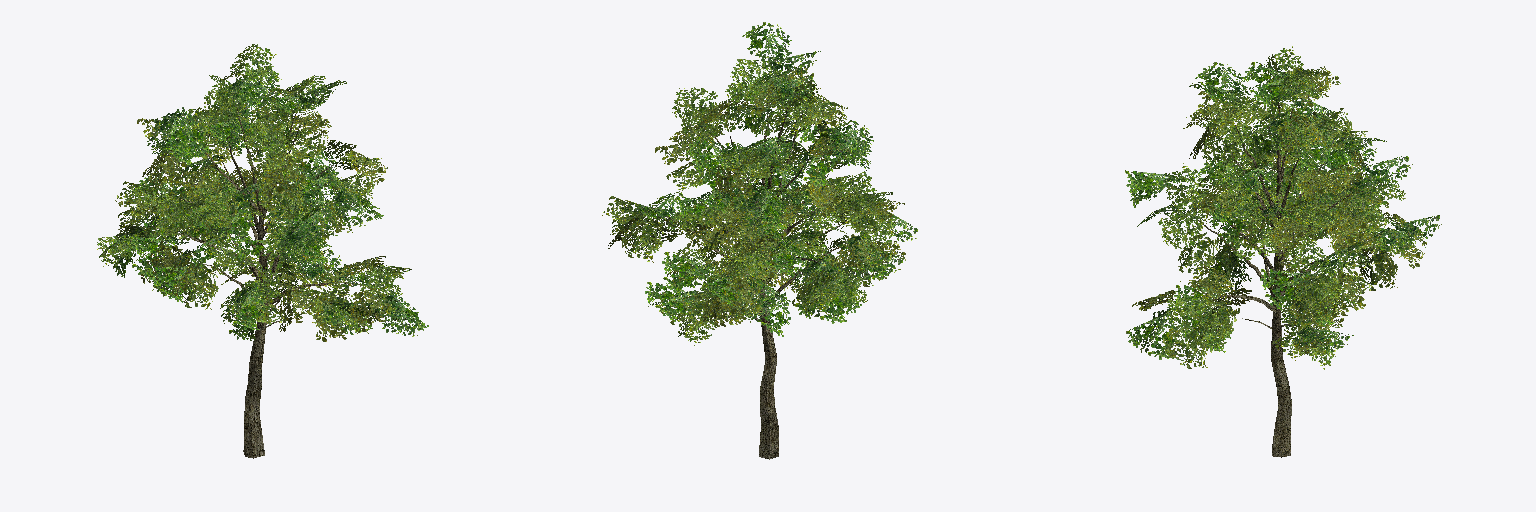
3 views of the same model, side by side, from view 1: azimuth 30°, elevation 25°; view 2: azimuth 150°, elevation 25°; view 3: azimuth 270°, elevation 25° (orthographic).
Parts seen in each view (by area): view 1: Tree_Lod_B, Tree_Lod_B01; view 2: Tree_Lod_B, Tree_Lod_B01; view 3: Tree_Lod_B, Tree_Lod_B01.
Part boxes in pixels (left/top/right/bottom): Tree_Lod_B: left=97, top=44, right=428, bottom=341; Tree_Lod_B01: left=156, top=108, right=361, bottom=458; Tree_Lod_B: left=602, top=22, right=917, bottom=345; Tree_Lod_B01: left=665, top=103, right=846, bottom=459; Tree_Lod_B: left=1125, top=46, right=1441, bottom=369; Tree_Lod_B01: left=1191, top=98, right=1368, bottom=457.
Size of the model in its own units: 15.24 by 20.59 by 15.51.
Materials: 2 (2 with a texture image).